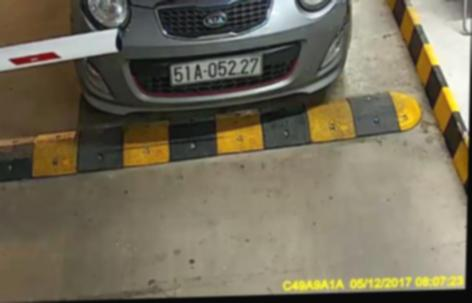License_Plate: (166, 52, 268, 84)
